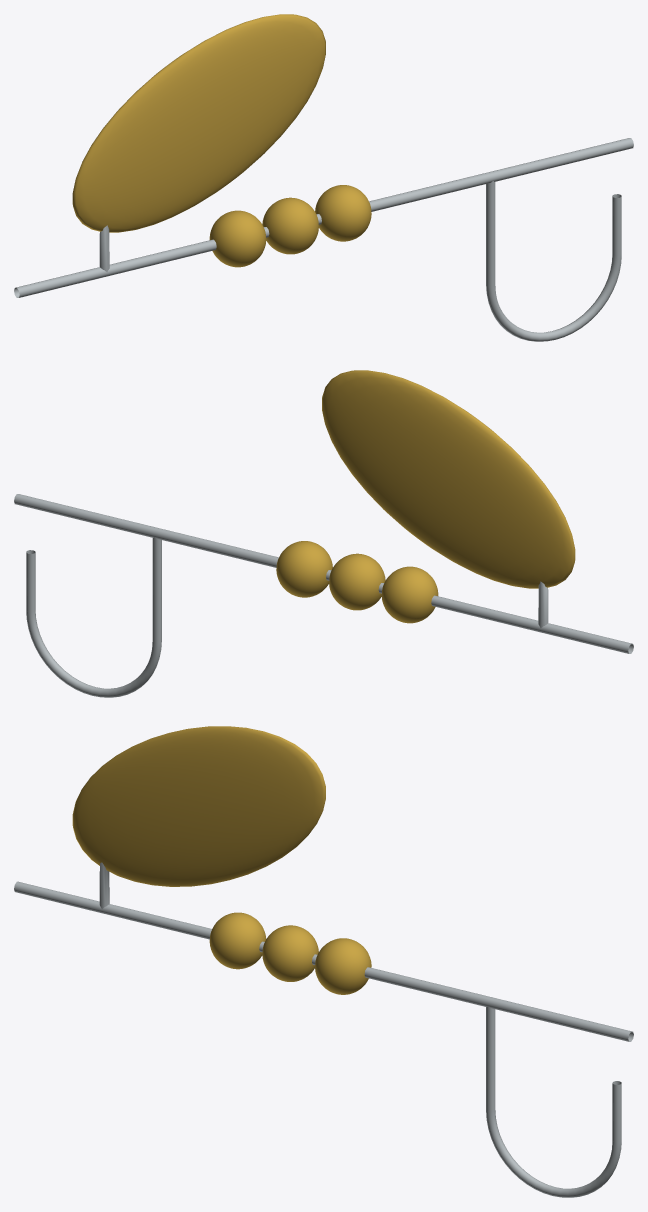
The model's file is spinner.glb.
The picture shows the model from 3 angles, top to bottom: view 1: azimuth 30°, elevation 25°; view 2: azimuth 150°, elevation 25°; view 3: azimuth 330°, elevation 25°; orthographic projection.
Parts seen in each view (by area): view 1: spinning blade, wire shaft, barbless hook.001, brass bead, brass bead.001, brass bead.002; view 2: spinning blade, wire shaft, barbless hook.001, brass bead, brass bead.001, brass bead.002; view 3: spinning blade, wire shaft, barbless hook.001, brass bead, brass bead.002, brass bead.001.
Boxes of the visible parts, x1,y1,x2,y2 form: spinning blade: [72, 14, 325, 232]; wire shaft: [14, 138, 633, 297]; barbless hook.001: [486, 181, 621, 341]; brass bead: [209, 210, 266, 267]; brass bead.001: [262, 197, 318, 254]; brass bead.002: [315, 185, 371, 241]; spinning blade: [322, 370, 575, 588]; wire shaft: [14, 494, 633, 653]; barbless hook.001: [26, 537, 161, 697]; brass bead: [381, 566, 438, 623]; brass bead.001: [329, 553, 385, 610]; brass bead.002: [276, 541, 332, 597]; spinning blade: [72, 726, 325, 886]; wire shaft: [14, 881, 633, 1041]; barbless hook.001: [486, 1006, 621, 1197]; brass bead: [209, 912, 266, 969]; brass bead.002: [315, 938, 371, 994]; brass bead.001: [262, 925, 318, 981].
Bounding box in the file's own units: 1.75 × 1.07 × 0.14.
